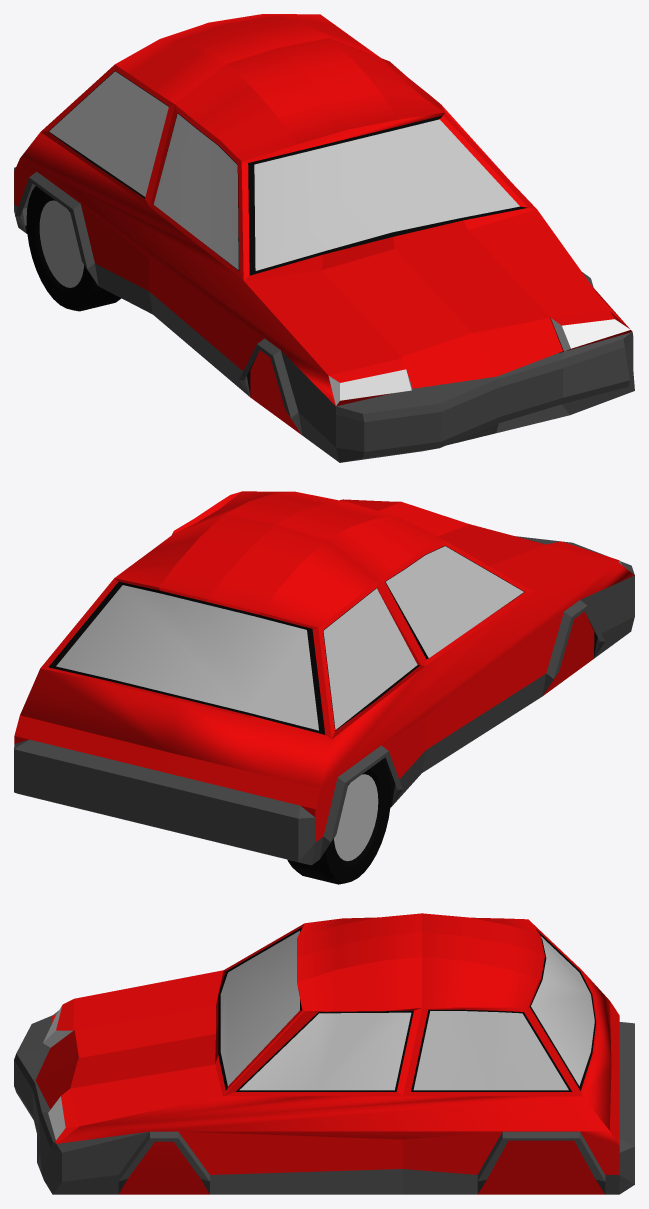
File: tercercarroprivado.fbx
3 views of the same model, one above another, from view 1: azimuth 30°, elevation 25°; view 2: azimuth 150°, elevation 25°; view 3: azimuth 270°, elevation 25° (orthographic). The views are drawn at different scales.
Visible parts, largest first — view 1: polySurface8, polySurface10, polySurface9; view 2: polySurface8, polySurface9; view 3: polySurface8, polySurface10.
Part boxes in pixels (x1=…): polySurface8: x1=14, y1=14, x2=634, y2=462; polySurface10: x1=401, y1=318, x2=562, y2=388; polySurface9: x1=26, y1=186, x2=121, y2=311; polySurface8: x1=14, y1=491, x2=634, y2=865; polySurface9: x1=287, y1=760, x2=391, y2=884; polySurface8: x1=14, y1=913, x2=634, y2=1194; polySurface10: x1=35, y1=1030, x2=78, y2=1109.
Size of the model in its own units: 210 by 172 by 403.
